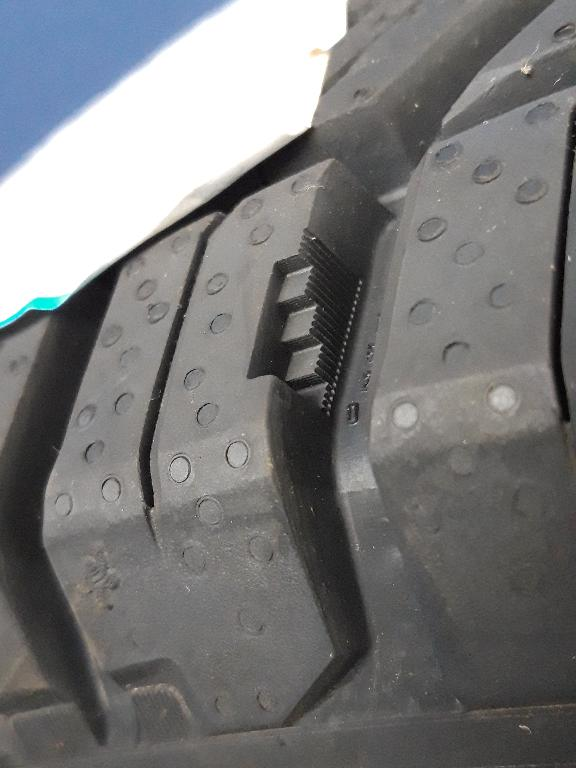temoin:100: (239, 220, 372, 431)
